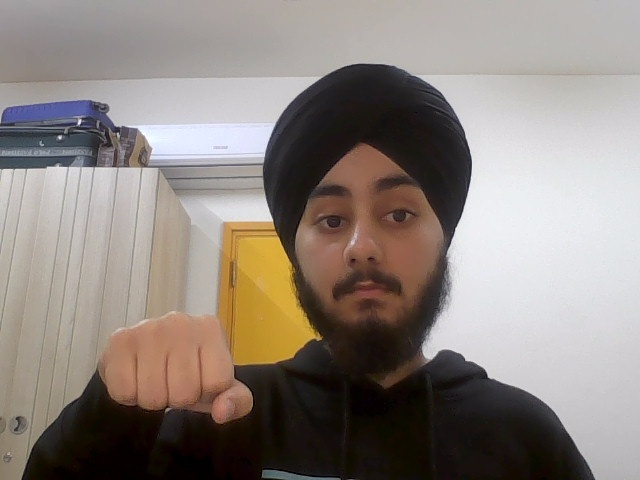Yes: (88, 305, 259, 430)
